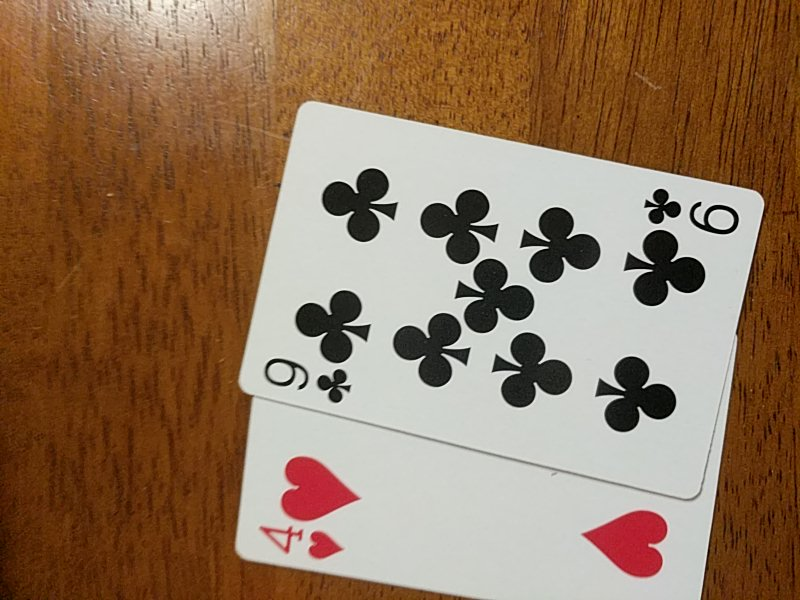Clubs: (231, 102, 766, 495)
Hearts: (237, 402, 732, 598)
